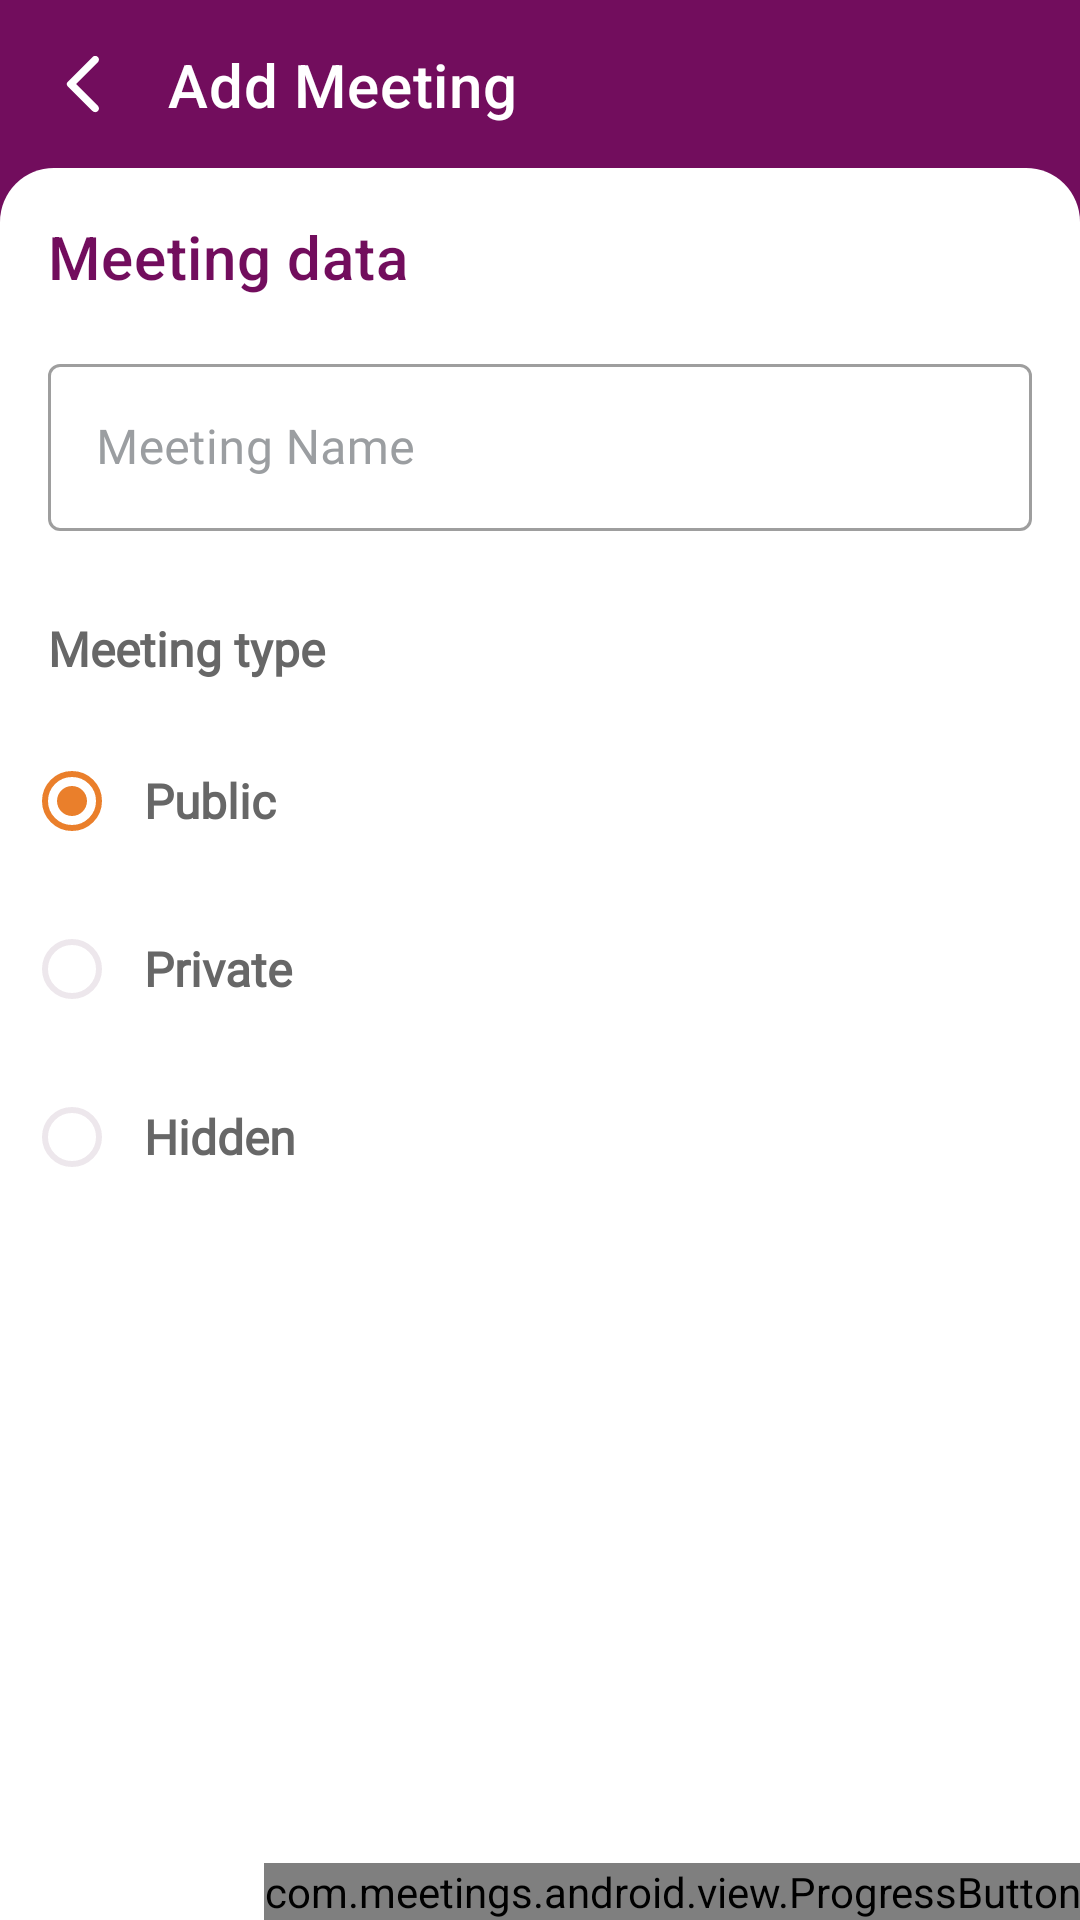

Named icons in this screenshot (1080 x 1920) and their bounding boxes, region(x1, y1, x2, y2):
arrow back: region(66, 56, 99, 113)
